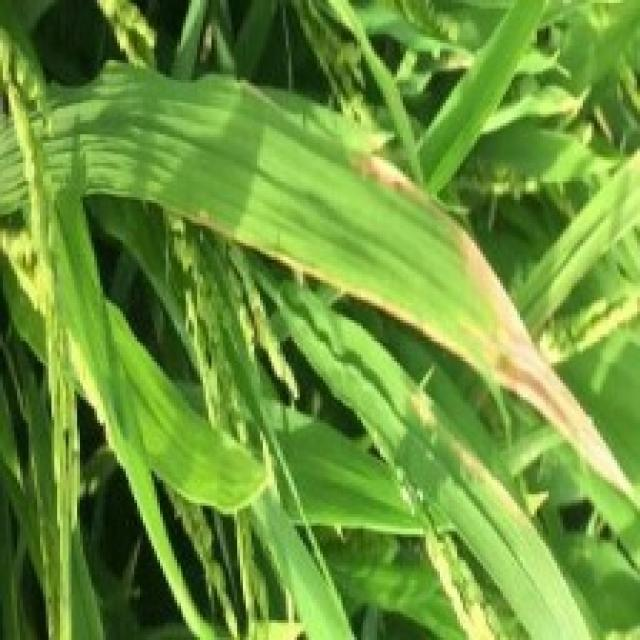Rice___Bacterial_Leaf_Blight: (0, 55, 637, 513)
